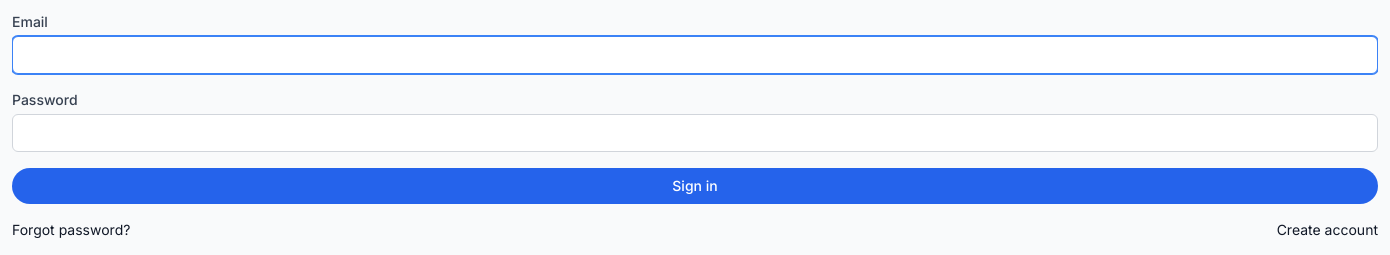
LoginForm › switches to the MFA step when the API answers with a 202 challenge
Type "ada@example.com" into the field labelled "Email". click: (695, 55)
box: [12,36,1378,74]
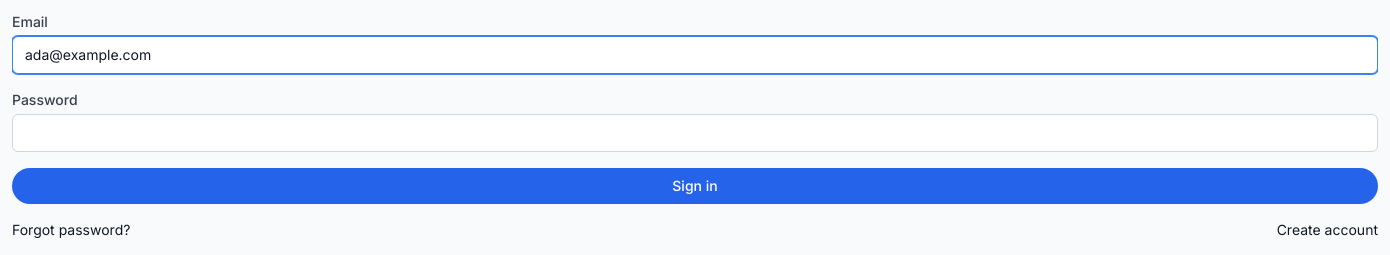
Type "correct-horse-1!" into the password field labelled "Password". click: (695, 133)
box: [12,114,1378,152]
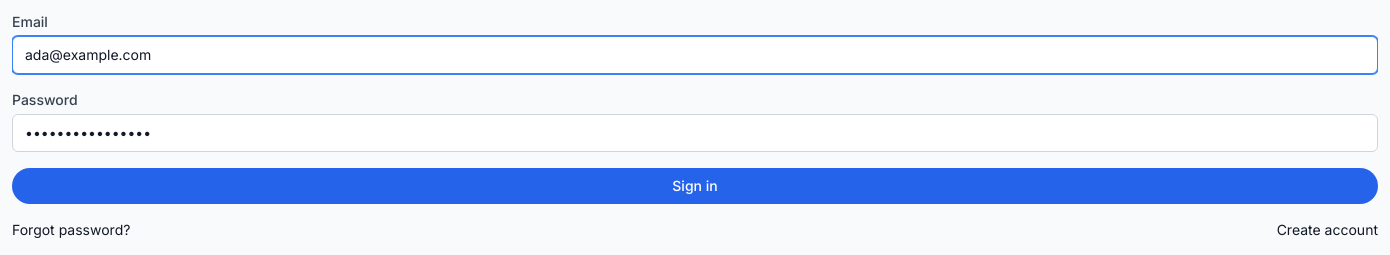
Click the button "Sign in". click: (695, 186)
box: [12,168,1378,204]
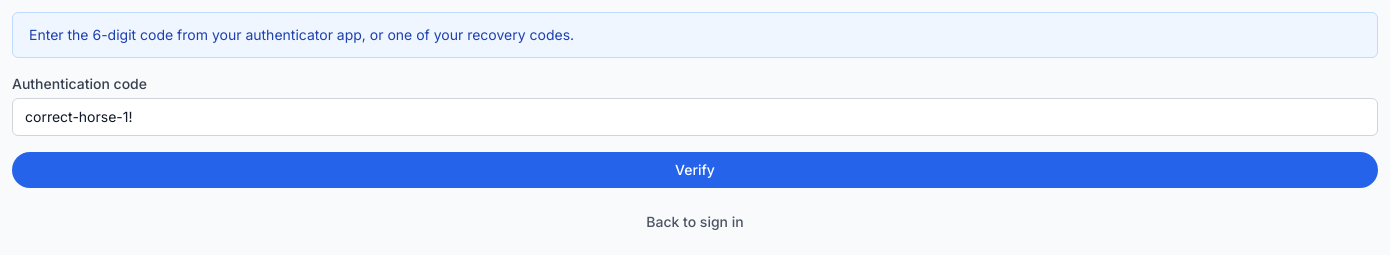
Check: the text "authenticator app" is shown, box [29,26,574,43]
